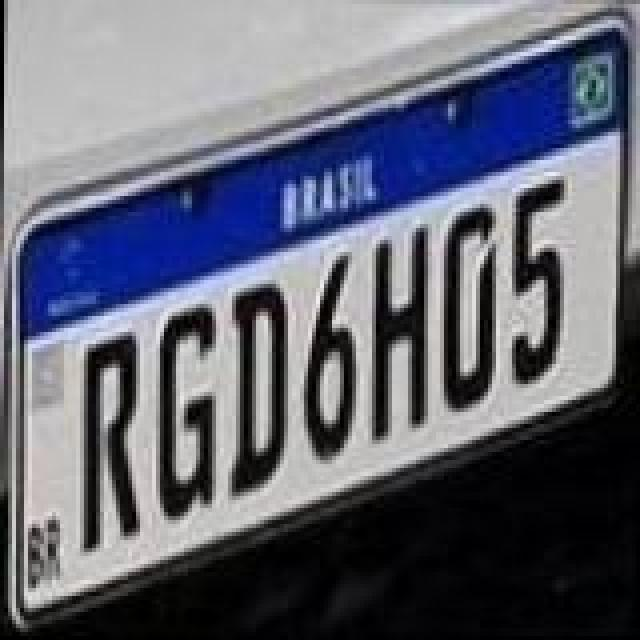5: (504, 170, 568, 390)
6: (302, 250, 362, 466)
D: (228, 276, 296, 504), (434, 198, 502, 418)
G: (154, 300, 226, 524)
H: (366, 222, 434, 450)
R: (78, 330, 150, 558)
